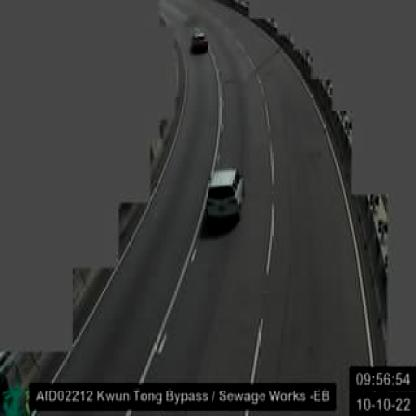Car: (207, 165, 245, 225), (192, 28, 208, 51)
